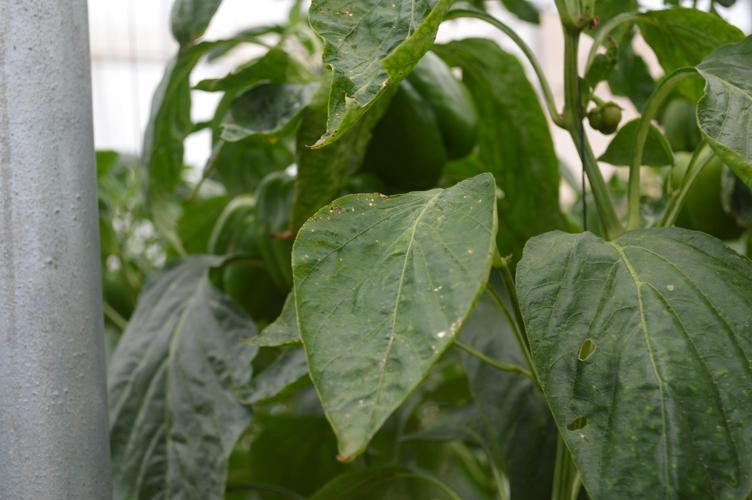BellPepper: (360, 47, 474, 184)
